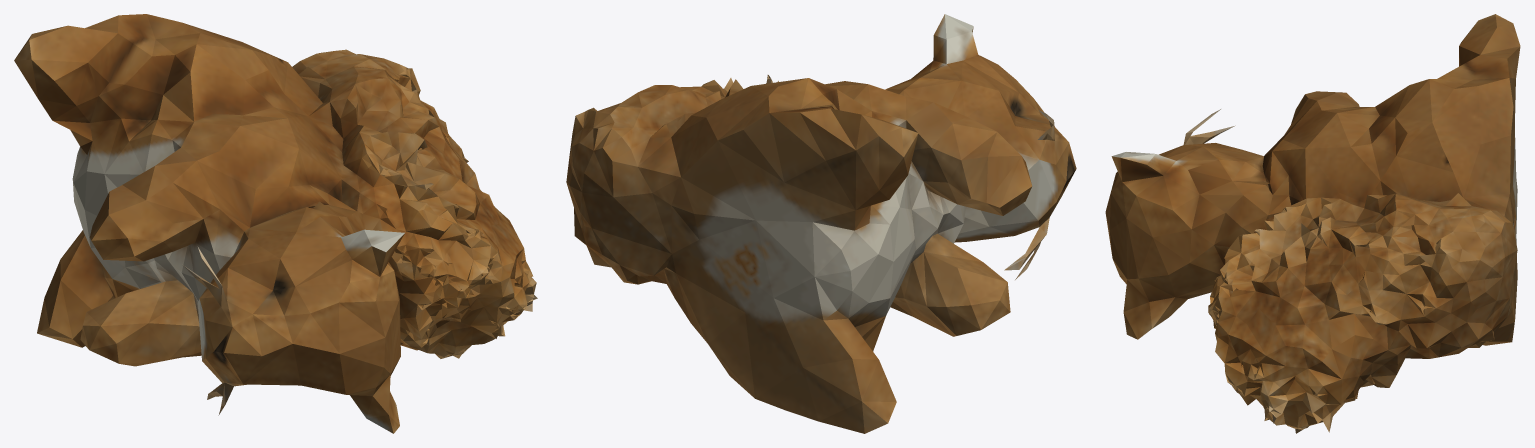
The picture shows the model from 3 angles, left to right: view 1: azimuth 30°, elevation 25°; view 2: azimuth 150°, elevation 25°; view 3: azimuth 270°, elevation 25°; orthographic projection. The views are drawn at different scales.
Bounding box in the file's own units: 0.1393 × 0.1004 × 0.1326.
1 material, 1 textured.
